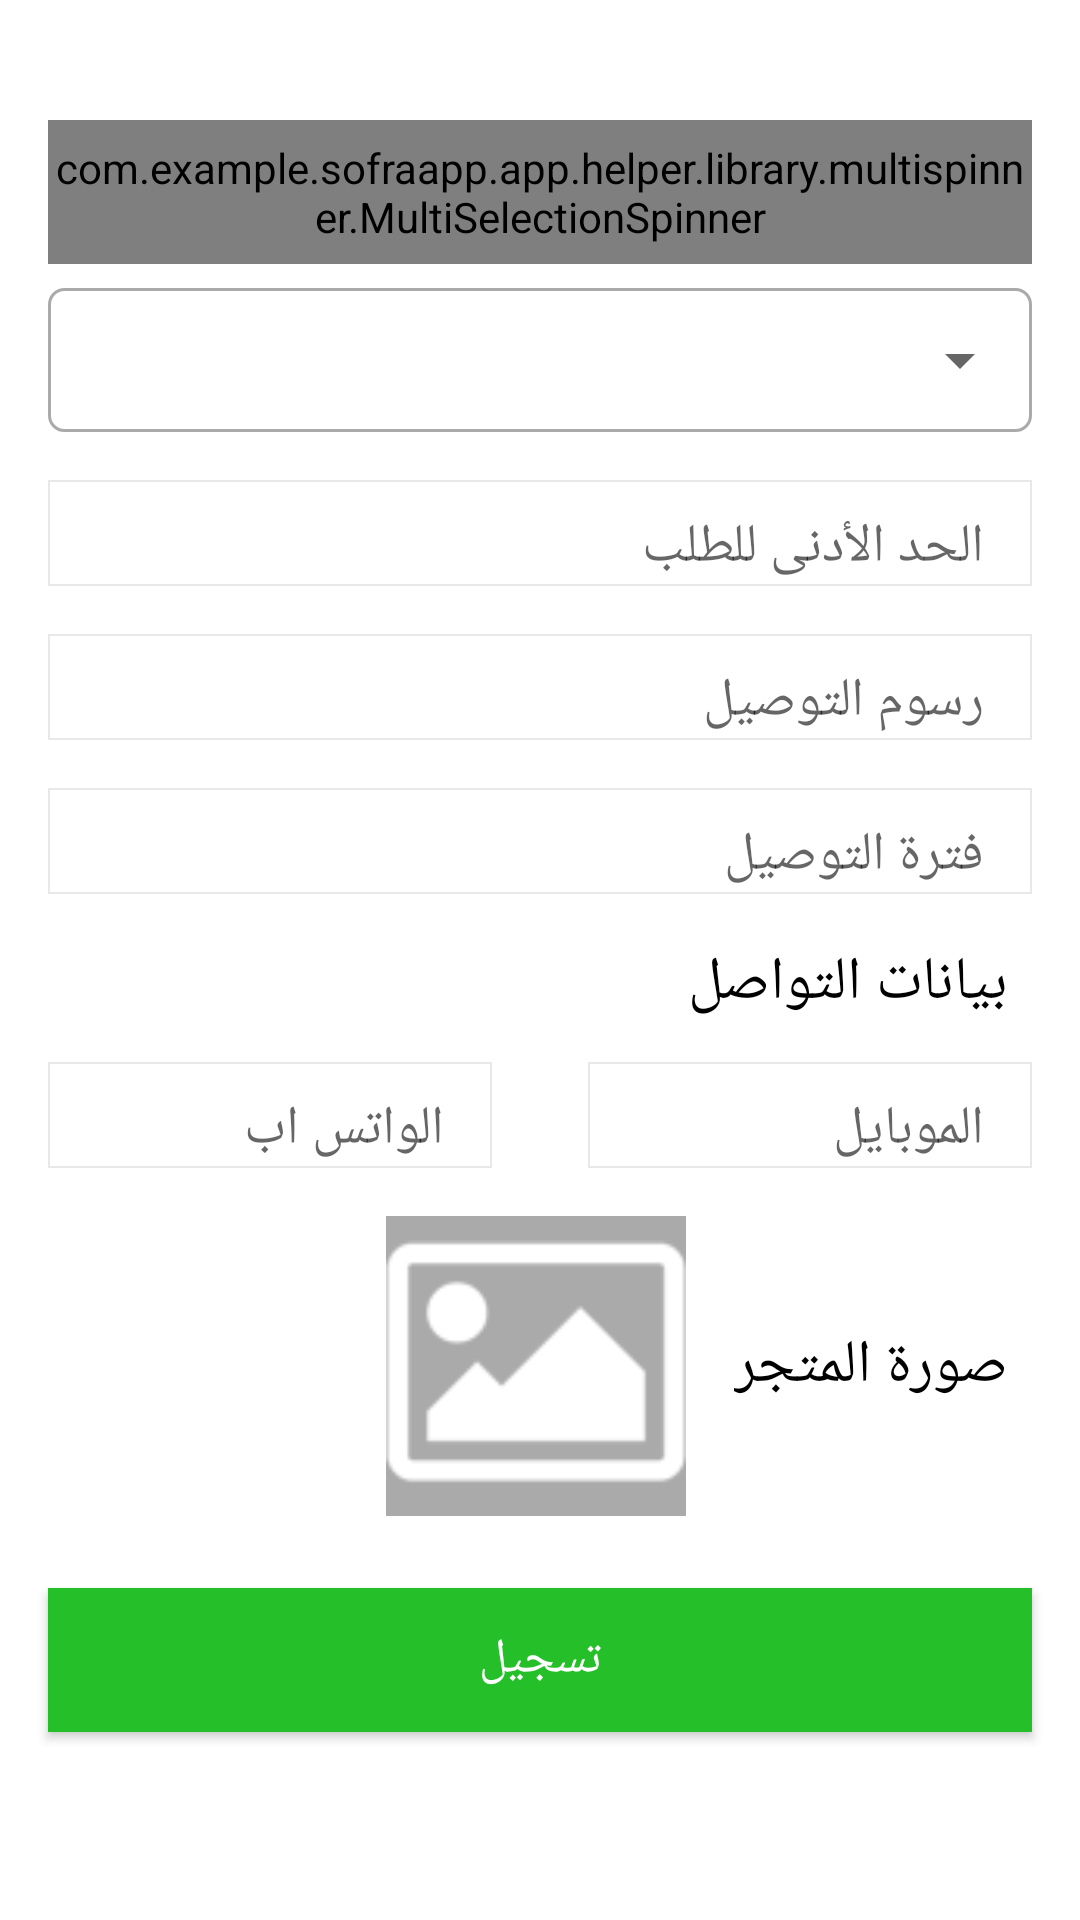

Icon bounding boxes for this 1080 × 1920 phone screenshot, format BBox(x1, y1, x2, y2):
photo: BBox(386, 1216, 686, 1516)
